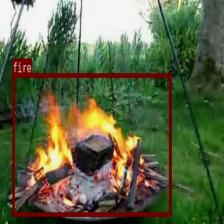fire: (12, 73, 171, 216)
